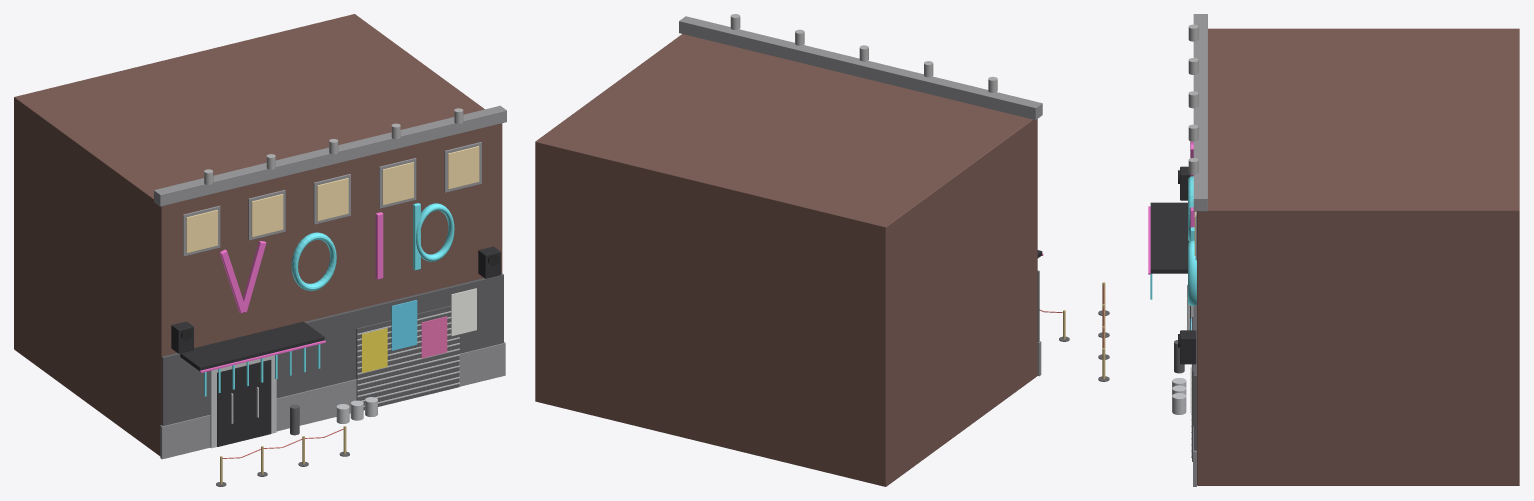
The model's file is exterior_club_building.fbx.
3 renders of one model, left to right at view 1: azimuth 30°, elevation 25°; view 2: azimuth 150°, elevation 25°; view 3: azimuth 270°, elevation 25°, orthographic. The views are drawn at different scales.
Visible parts, largest first — view 1: exterior_club_building; view 2: exterior_club_building; view 3: exterior_club_building.
Boxes of the visible parts, left/top/right/bottom form: exterior_club_building: left=14, top=14, right=506, bottom=486; exterior_club_building: left=535, top=14, right=1069, bottom=486; exterior_club_building: left=1098, top=14, right=1519, bottom=486.
Size of the model in its own units: 12.2 by 9.3 by 11.76.
